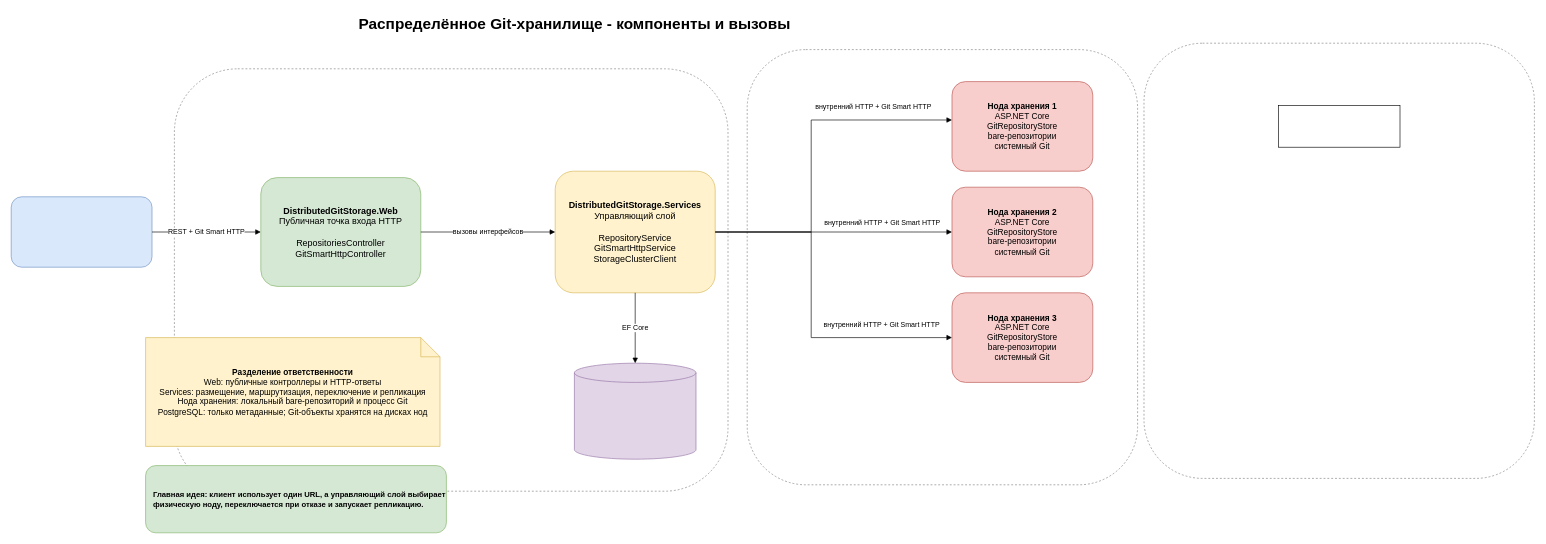
Some shapes in this 1546 by 544 pixel diagram are drawn without their labels. Here are the shapes that lost their labels. From the top down, the box of each, then its label:
(1278, 105, 1400, 147): вынести хранение файлов
(11, 196, 152, 267): Git-клиент / REST-клиент git push · clone · fetch · pull POST /repositories
(574, 363, 696, 459): PostgreSQL repository_placements ID репозитория публичное имя основная нода
